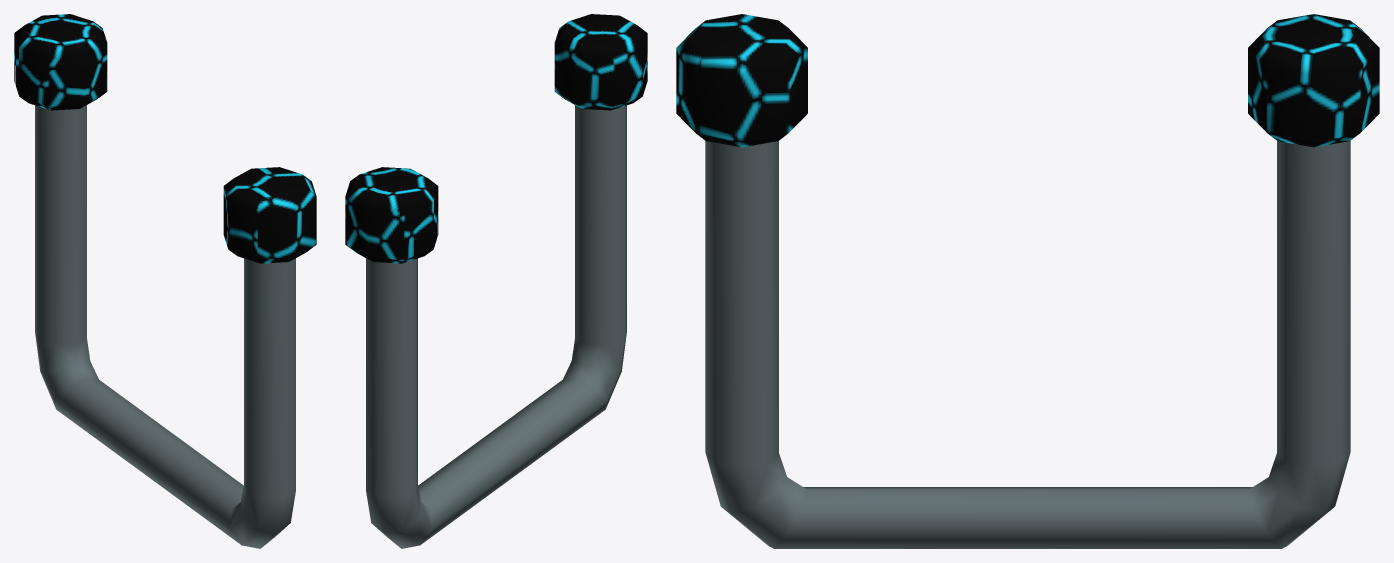
File: SM_Cord_01.fbx
3 views of the same model, side by side, from view 1: azimuth 30°, elevation 25°; view 2: azimuth 150°, elevation 25°; view 3: azimuth 270°, elevation 25° (orthographic). The views are drawn at different scales.
Visible parts, largest first — view 1: SM_Cord_01; view 2: SM_Cord_01; view 3: SM_Cord_01.
Boxes of the visible parts, bbox=[...] form: SM_Cord_01: bbox=[14, 14, 316, 548]; SM_Cord_01: bbox=[345, 14, 647, 548]; SM_Cord_01: bbox=[676, 14, 1379, 548].
Bounding box in the file's own units: 10.13 × 54.06 × 43.3.
1 material, 1 textured.
